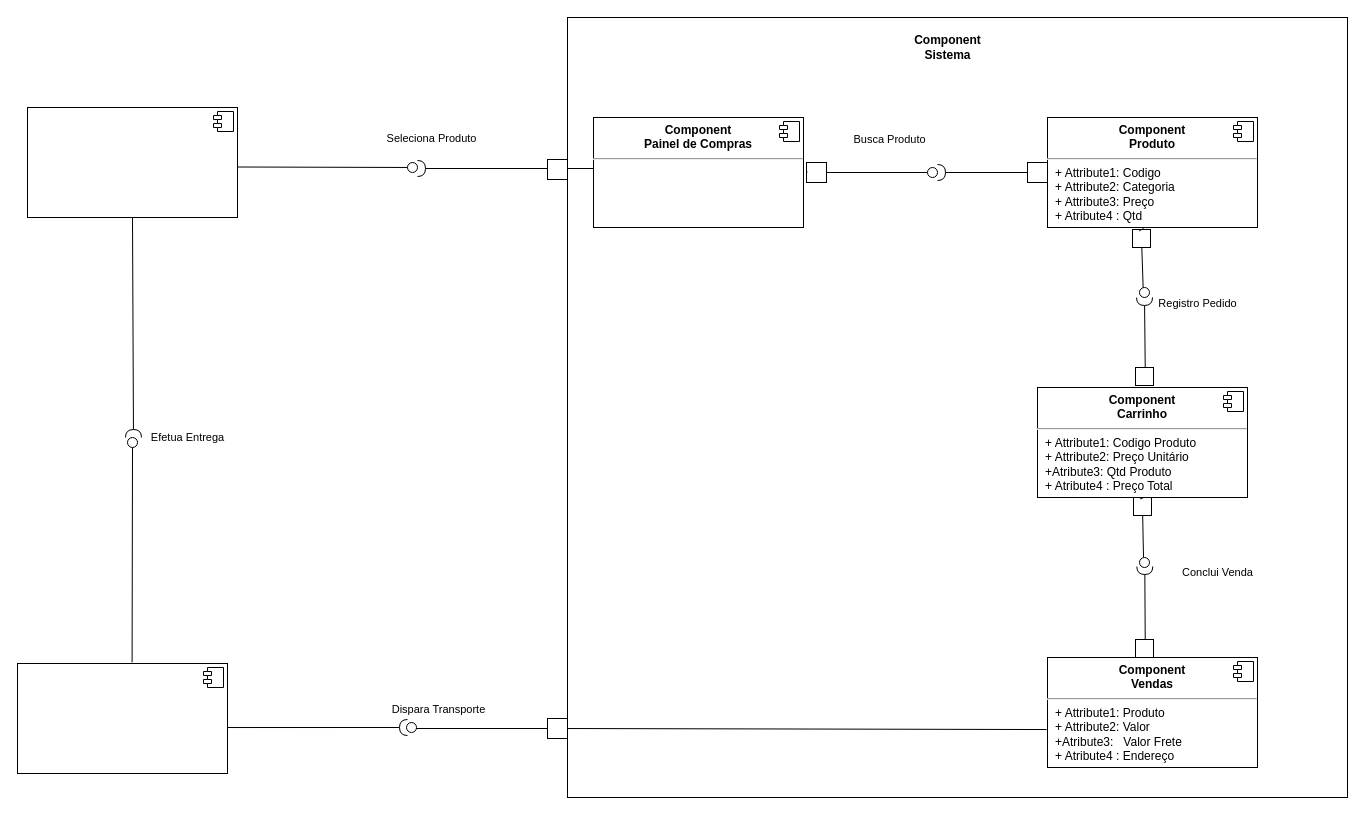
The diagram is 1365 pixels wide and 815 high, and some of its shapes have lost their labels. The box of each missing label's shape, as (x1, y1, x2, y2) in pixels:
Component Cliente + Attribute1: Nome + Attribute2: CPF +Atribute3 : Endereço: (26, 106, 238, 218)
Component Transportadora + Attribute1: Nome + Attribute2: Endereço: (16, 662, 228, 774)
